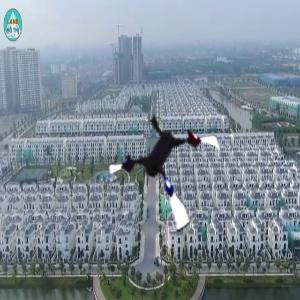drone: (104, 107, 232, 235)
